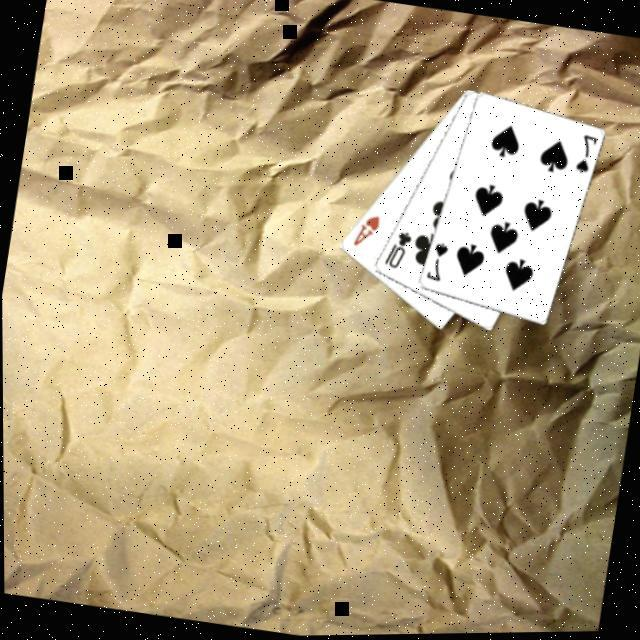10C: (379, 225, 414, 273)
7S: (570, 130, 600, 178), (422, 238, 451, 284)
AH: (348, 208, 383, 252)
